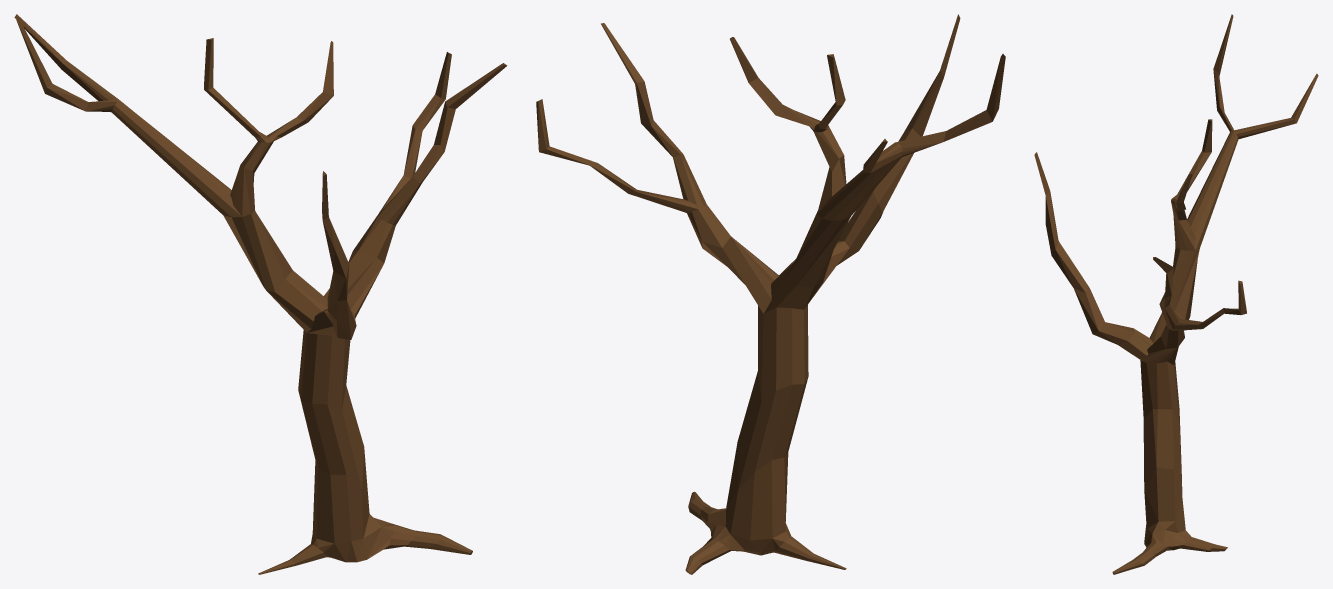
The model's file is big_burnt.fbx.
3 views of the same model, side by side, from view 1: azimuth 30°, elevation 25°; view 2: azimuth 150°, elevation 25°; view 3: azimuth 270°, elevation 25° (orthographic). The views are drawn at different scales.
Parts seen in each view (by area): view 1: LowPoly Tree .023; view 2: LowPoly Tree .023; view 3: LowPoly Tree .023.
Part boxes in pixels (bbox=[...]): LowPoly Tree .023: bbox=[14, 14, 507, 574]; LowPoly Tree .023: bbox=[536, 14, 1005, 574]; LowPoly Tree .023: bbox=[1034, 14, 1318, 574].
Size of the model in its own units: 767 by 952 by 575.
